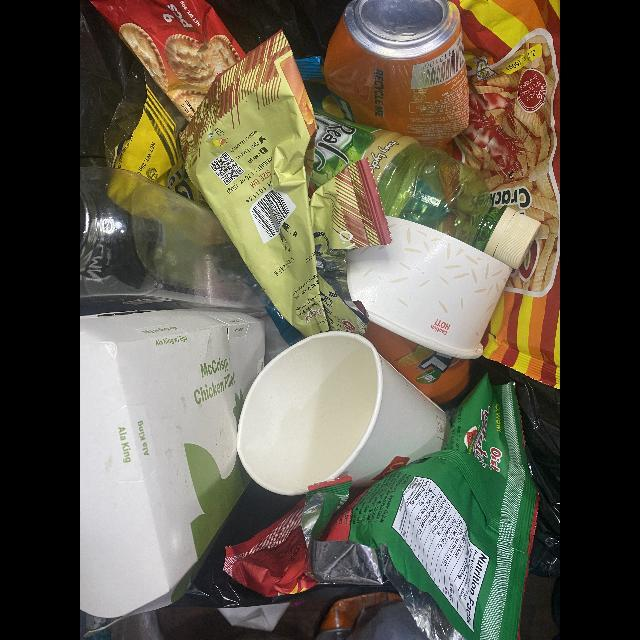glass: (80, 167, 267, 318)
metal: (323, 0, 470, 150), (364, 322, 474, 406), (315, 592, 402, 640)
paper: (80, 310, 265, 619)
plastic: (310, 115, 541, 270)
wrapper: (224, 376, 540, 640), (180, 30, 393, 337), (444, 0, 560, 391), (88, 0, 247, 120), (104, 60, 210, 211), (295, 56, 356, 123), (265, 303, 303, 346)
